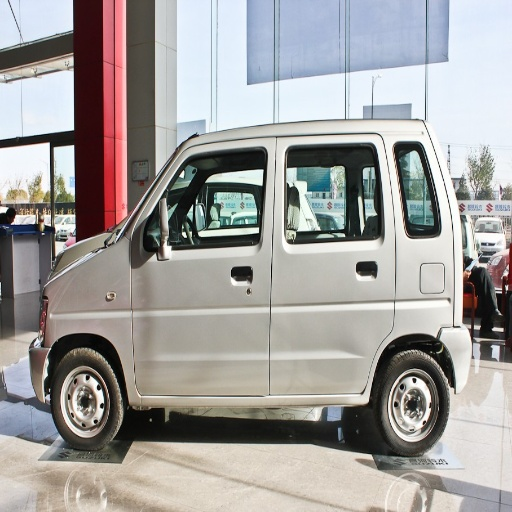trunk: (389, 238, 449, 341)
